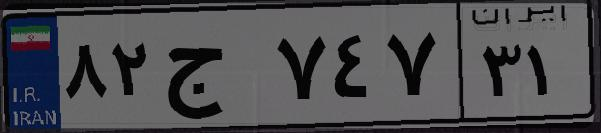1: (525, 38, 570, 115)
2: (110, 28, 158, 98)
3: (475, 38, 525, 113)
4: (330, 28, 385, 110)
7: (270, 28, 330, 110), (385, 28, 445, 110)
8: (57, 26, 110, 100)
ج: (158, 20, 270, 120)
